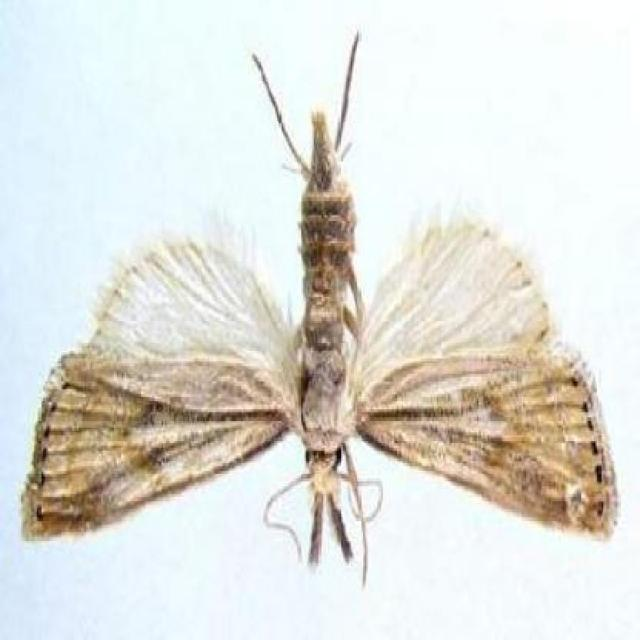stem-borer: (18, 26, 620, 588)
